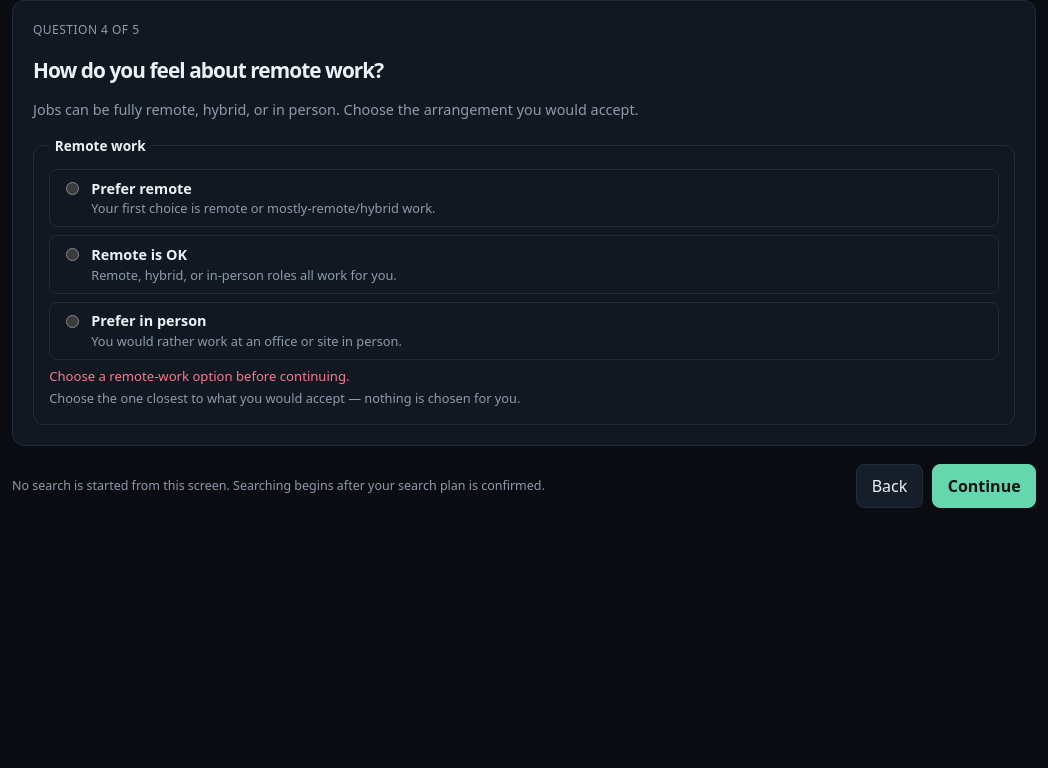
Test: PreferencesStep guided onboarding › records the chosen remote option in the draft value and its answer state
Click the radio button labelled "Remote is OK".
click(72, 255)  # box [66,248,79,261]
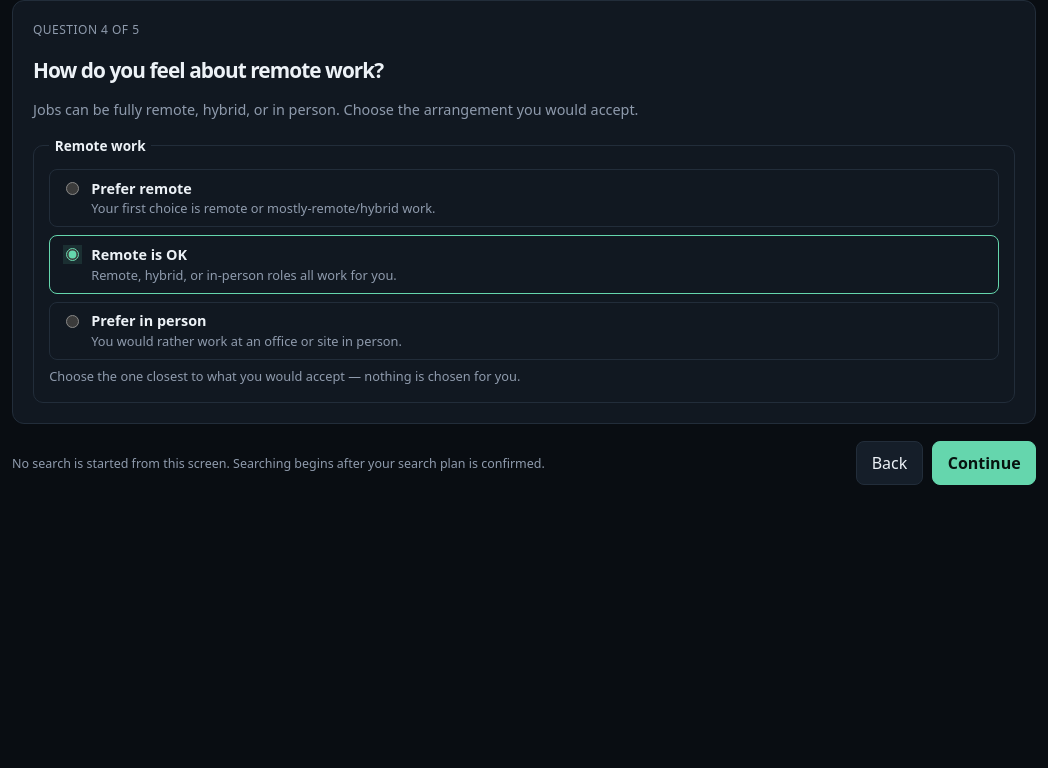
Check: the radio button labelled "Remote is OK" is checked, box [66,248,79,261]
Click the button "Continue".
click(984, 463)  # box [932,441,1036,485]
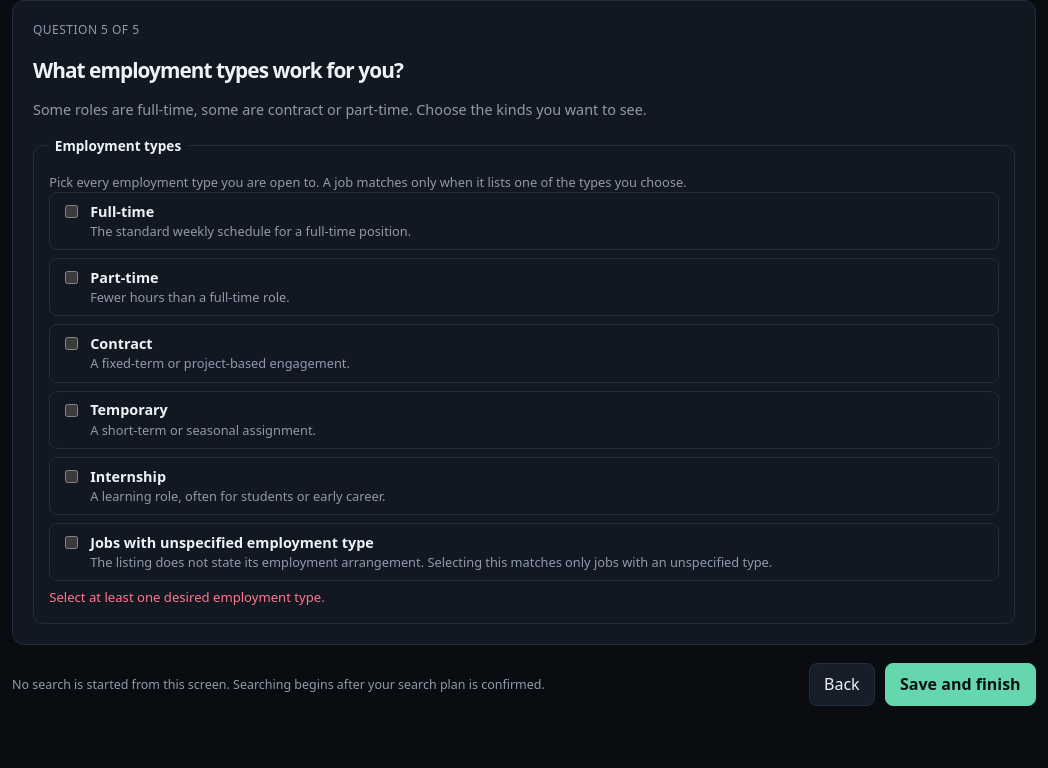
Check: the heading "What employment types work for you?" is shown, box [33,56,403,84]
